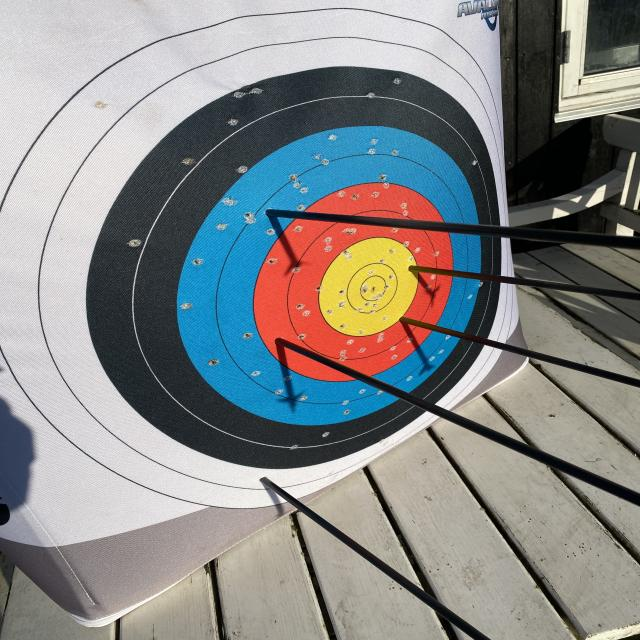Arrow_Blue: (252, 195, 294, 231)
Arrow_Red: (254, 334, 302, 354), (393, 314, 423, 334)
Arrow_White: (248, 464, 284, 496)
Arrow_Yellow: (398, 260, 423, 286)
